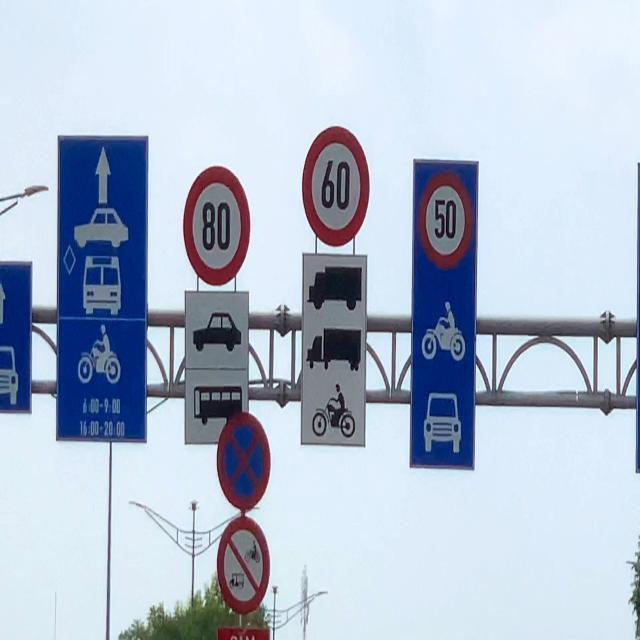127-toc-do-toi-da-50: (418, 172, 474, 268)
127-toc-do-toi-da-60: (299, 122, 369, 246)
127-toc-do-toi-da-80: (178, 163, 252, 284)
130-cam-dung-va-do-xe: (214, 410, 272, 508)
